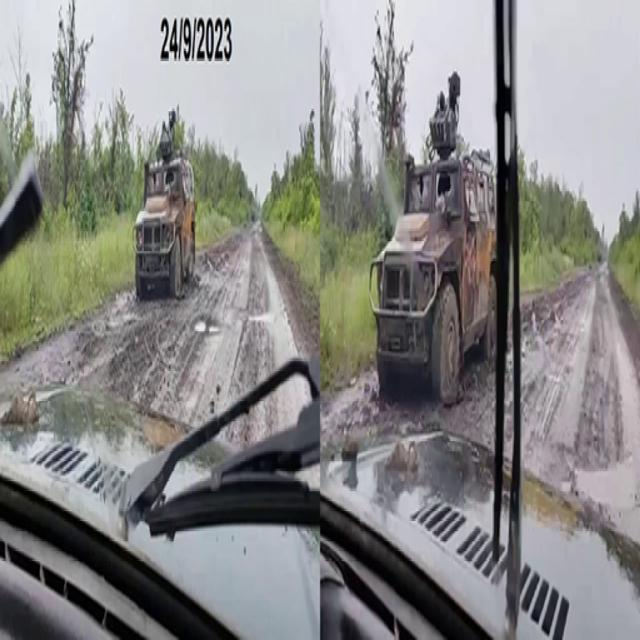CAR: (365, 142, 505, 402), (128, 153, 198, 300)
